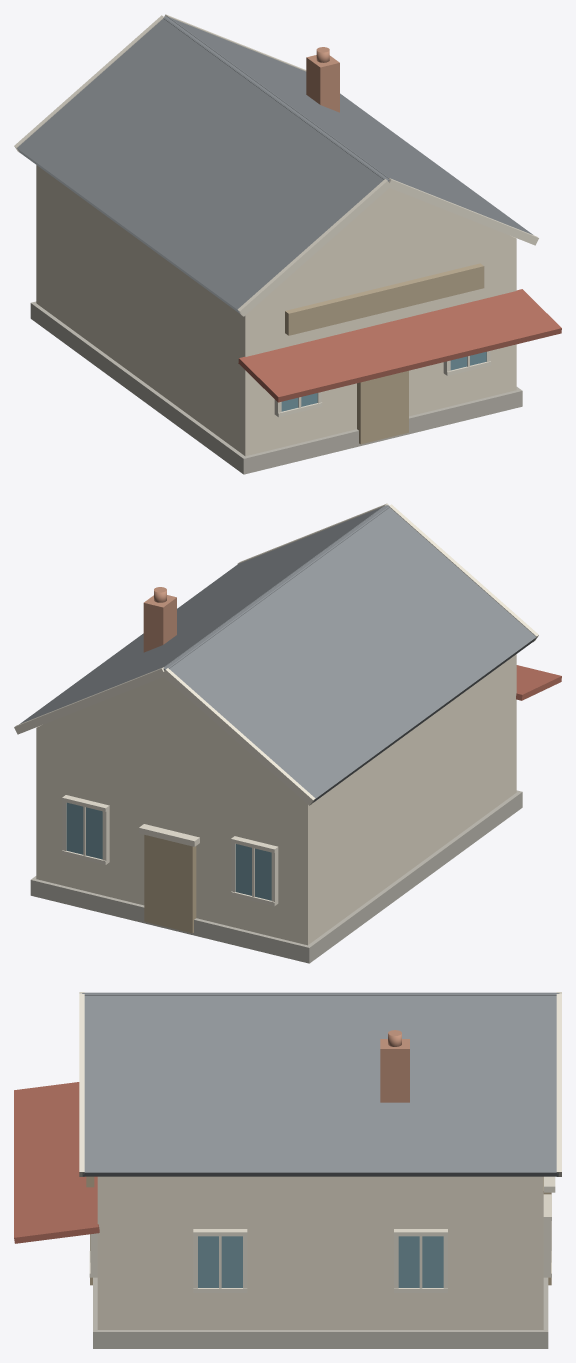
File: rhine-shop_lod0.glb
3 renders of one model, top to bottom at view 1: azimuth 30°, elevation 25°; view 2: azimuth 150°, elevation 25°; view 3: azimuth 270°, elevation 25°, orthographic. The views are drawn at different scales.
Visible parts, largest first — view 1: RF_Roof.001, RF_Body, RF_ShopAwning, RF_Gable, RF_Roof, RF_Foundation, RF_ShopSign, RF_Door.001, RF_Vergeband.001, RF_Chimney, RF_Vergeband.003, RF_Ridge (+1 smaller); view 2: RF_Body, RF_Roof.001, RF_Gable.001, RF_Roof, RF_Foundation, RF_Door, RF_Vergeband.002, RF_Window.004, RF_Window.003, RF_Chimney, RF_Vergeband, RF_Ridge (+3 smaller); view 3: RF_Roof, RF_Body, RF_ShopAwning, RF_Foundation, RF_Window, RF_Window.005, RF_Ridge, RF_Chimney, RF_Vergeband.003, RF_Vergeband, RF_WindowFrame.008, RF_Roof.001.
Boxes of the visible parts, x1=… form: RF_Roof.001: x1=17, y1=17, x2=384, y2=314; RF_Body: x1=36, y1=165, x2=516, y2=456; RF_ShopAwning: x1=238, y1=289, x2=561, y2=402; RF_Gable: x1=262, y1=188, x2=516, y2=300; RF_Roof: x1=166, y1=16, x2=532, y2=234; RF_Foundation: x1=30, y1=301, x2=522, y2=474; RF_ShopSign: x1=285, y1=263, x2=484, y2=335; RF_Door.001: x1=357, y1=370, x2=408, y2=444; RF_Vergeband.001: x1=237, y1=179, x2=390, y2=316; RF_Chimney: x1=306, y1=55, x2=339, y2=112; RF_Vergeband.003: x1=388, y1=178, x2=538, y2=245; RF_Ridge: x1=163, y1=16, x2=389, y2=181; RF_Body: x1=36, y1=654, x2=516, y2=945; RF_Roof.001: x1=168, y1=506, x2=536, y2=802; RF_Gable.001: x1=37, y1=677, x2=290, y2=789; RF_Roof: x1=19, y1=505, x2=386, y2=724; RF_Foundation: x1=30, y1=790, x2=522, y2=963; RF_Door: x1=144, y1=835, x2=196, y2=933; RF_Vergeband.002: x1=162, y1=668, x2=315, y2=805; RF_Window.004: x1=66, y1=802, x2=102, y2=859; RF_Window.003: x1=235, y1=844, x2=271, y2=900; RF_Chimney: x1=143, y1=595, x2=176, y2=652; RF_Vergeband: x1=14, y1=667, x2=164, y2=734; RF_Ridge: x1=163, y1=505, x2=389, y2=670; RF_Roof: x1=82, y1=994, x2=558, y2=1176; RF_Body: x1=97, y1=1176, x2=543, y2=1329; RF_ShopAwning: x1=14, y1=1082, x2=99, y2=1243; RF_Foundation: x1=93, y1=1277, x2=548, y2=1348; RF_Window: x1=398, y1=1236, x2=443, y2=1287; RF_Window.005: x1=198, y1=1236, x2=242, y2=1287; RF_Ridge: x1=82, y1=992, x2=559, y2=995; RF_Chimney: x1=380, y1=1039, x2=409, y2=1102; RF_Vergeband.003: x1=79, y1=994, x2=84, y2=1176; RF_Vergeband: x1=556, y1=994, x2=561, y2=1176; RF_WindowFrame.008: x1=543, y1=1215, x2=550, y2=1277; RF_Roof.001: x1=83, y1=993, x2=558, y2=993.
Bounding box in the file's own units: 9.93 × 8.47 × 14.74.
